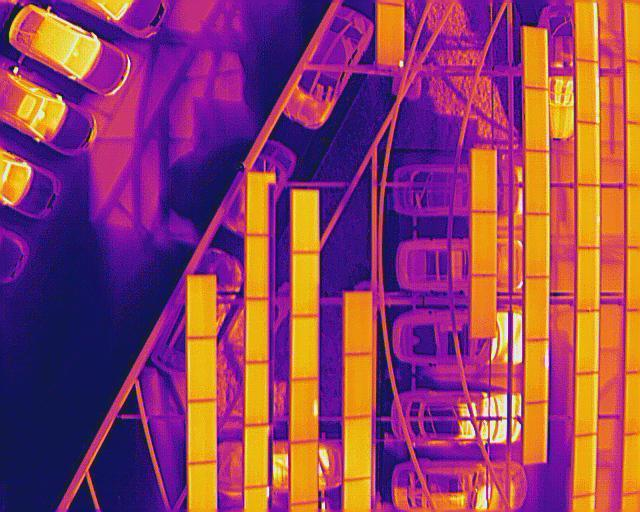Cell: (376, 5, 404, 67)
No-Anomaly: (188, 275, 217, 340), (289, 440, 318, 505), (186, 401, 215, 464), (187, 337, 215, 402), (344, 292, 372, 356), (344, 416, 372, 480), (344, 353, 371, 419), (291, 315, 318, 380), (291, 253, 318, 317), (521, 401, 548, 465), (291, 190, 318, 253), (524, 212, 549, 278), (572, 431, 597, 497), (575, 311, 600, 376), (471, 210, 496, 275), (524, 276, 549, 340), (244, 363, 269, 426), (471, 275, 496, 338), (575, 371, 598, 438), (577, 185, 601, 249), (245, 297, 268, 363), (577, 246, 600, 312), (244, 425, 268, 488), (471, 152, 496, 212), (526, 150, 550, 212), (525, 88, 548, 152), (576, 120, 598, 186), (525, 26, 548, 89), (245, 235, 268, 297), (245, 173, 268, 234)
Unclassified: (290, 378, 318, 445), (524, 339, 548, 404), (577, 60, 599, 123), (577, 0, 598, 61)
